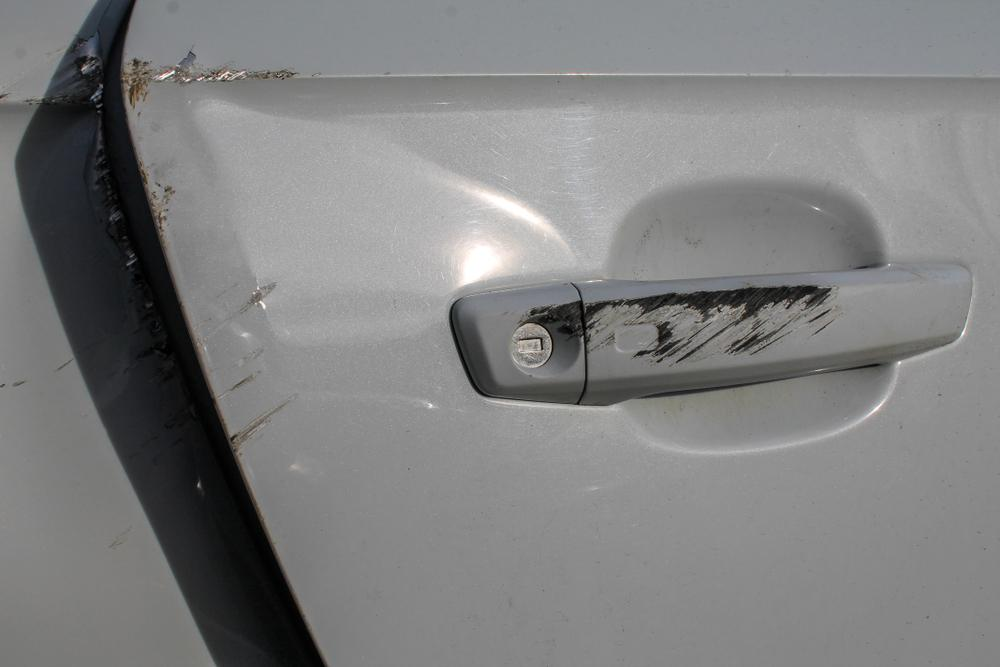scratch: (68, 43, 180, 419), (526, 282, 844, 367), (199, 268, 299, 450), (128, 53, 296, 109)
